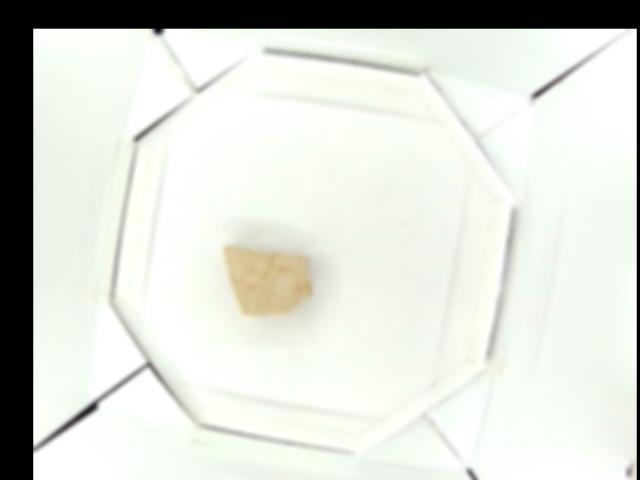China: (220, 243, 309, 317)
